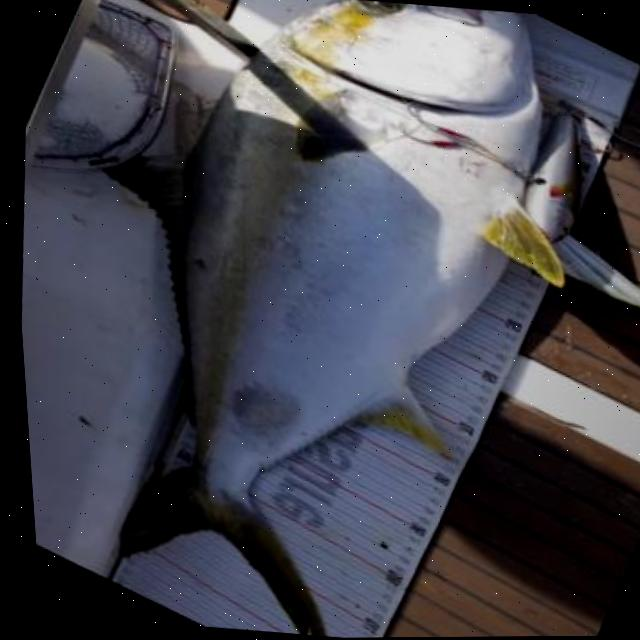Kingfish: (67, 0, 612, 640)
